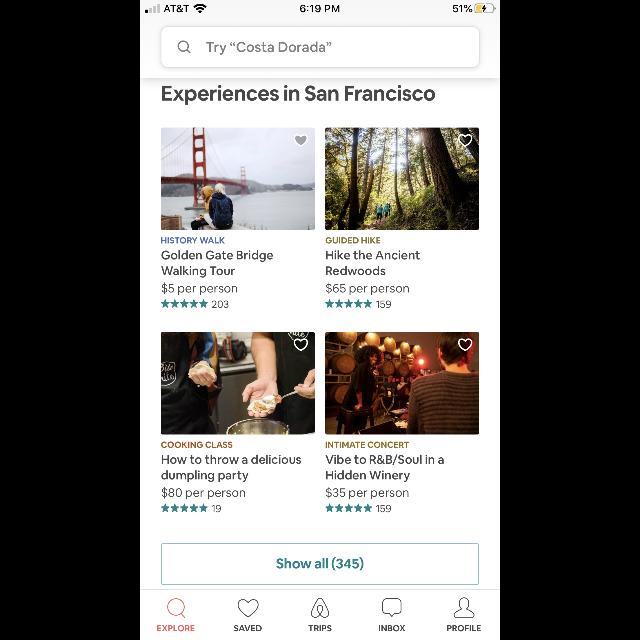icon: (326, 503, 372, 512), (454, 598, 474, 618), (162, 504, 208, 512), (326, 300, 372, 308), (162, 300, 208, 308), (382, 599, 402, 617), (238, 599, 258, 617), (168, 598, 186, 618), (294, 339, 308, 351), (458, 339, 472, 351), (458, 135, 472, 147), (294, 135, 308, 147), (178, 40, 190, 54)
image: (326, 332, 478, 434), (162, 332, 314, 434), (326, 128, 478, 230), (162, 128, 314, 230), (311, 598, 329, 618)
input: (161, 27, 479, 68)
text: (162, 85, 436, 105), (206, 41, 332, 54), (326, 454, 444, 466), (162, 454, 300, 464), (162, 250, 272, 262), (327, 282, 409, 296), (326, 470, 410, 482), (162, 487, 245, 499), (326, 487, 408, 499), (162, 471, 248, 482), (326, 250, 420, 260), (162, 283, 238, 295), (162, 266, 234, 278), (326, 266, 386, 276), (326, 442, 408, 448), (162, 442, 232, 448), (162, 238, 224, 244), (326, 238, 380, 244), (158, 625, 195, 631), (447, 625, 481, 631), (234, 625, 262, 631), (379, 625, 405, 631), (308, 625, 332, 631), (376, 300, 392, 308), (212, 300, 228, 308), (376, 505, 390, 513), (212, 506, 222, 512)
textbutton: (162, 544, 478, 584)
uppertaskbar: (140, 0, 500, 14)
